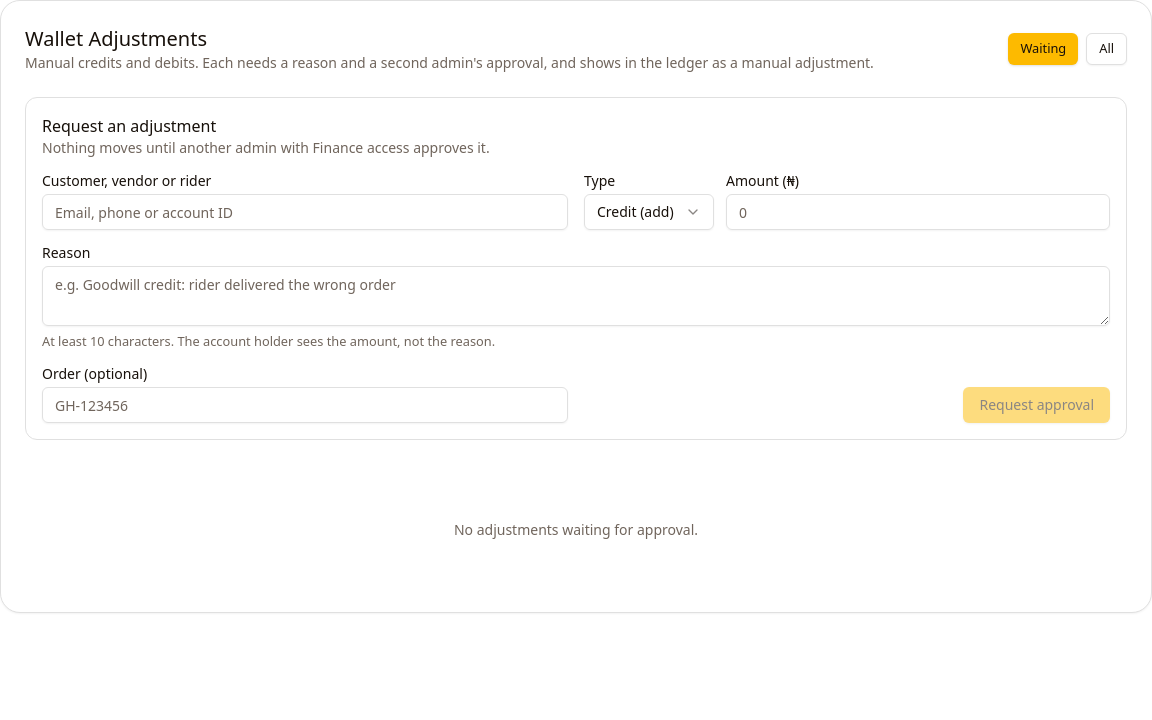
wallet adjustments › refuses amounts over the limit
Type "200000" into the field labelled "Amount (₦)" at [918, 212], box [726, 194, 1110, 230]
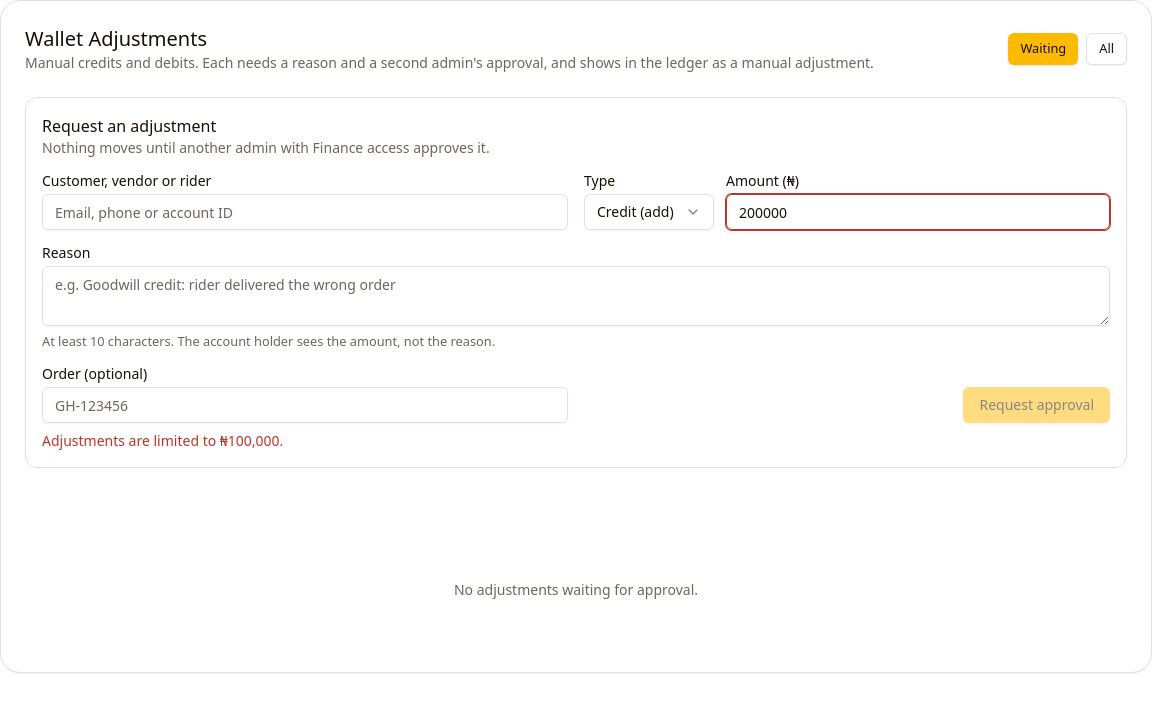
Now the text "Adjustments are limited to ₦100,000." is shown, box [42, 431, 283, 450]
